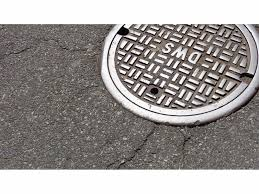Manhole-Closed: (98, 23, 259, 125)
